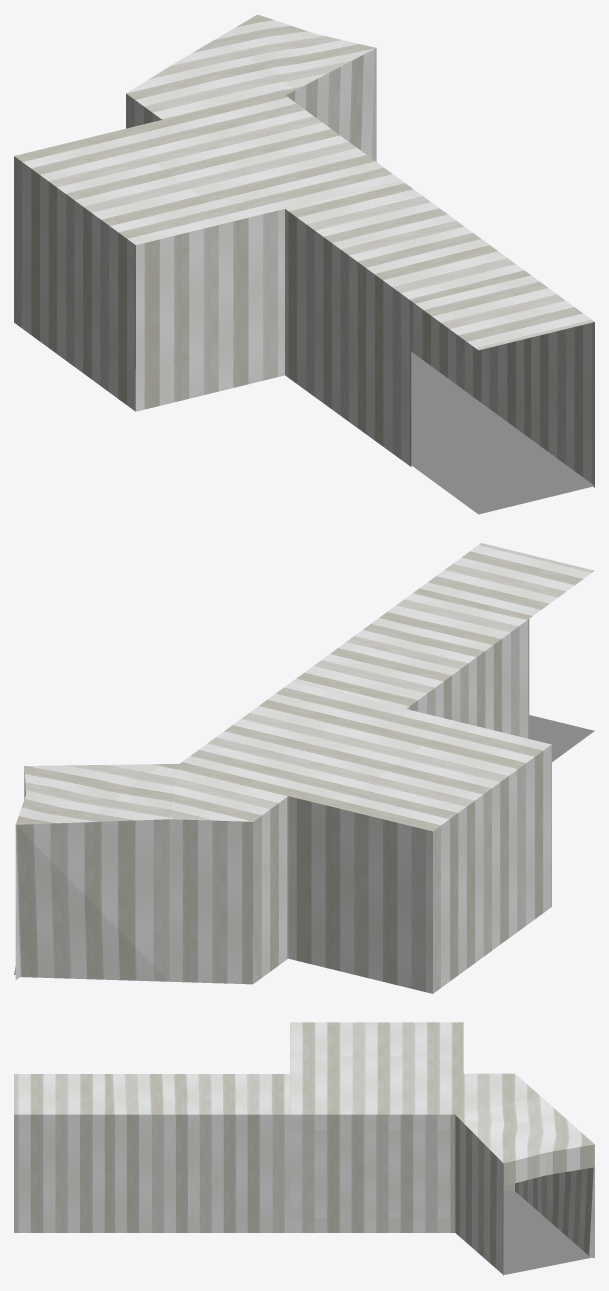
Rendered from PartyroomFloor.fbx.
3 renders of one model, top to bottom at view 1: azimuth 30°, elevation 25°; view 2: azimuth 150°, elevation 25°; view 3: azimuth 270°, elevation 25°, orthographic. The views are drawn at different scales.
Visible parts, largest first — view 1: Wall__7_.002, Wall__7__001.001; view 2: Wall__7_.002, Wall__7__001.001; view 3: Wall__7_.002, Wall__7__001.001.
Part boxes in pixels (left/top/right/bottom): Wall__7_.002: left=14, top=14, right=594, bottom=487; Wall__7__001.001: left=411, top=352, right=594, bottom=514; Wall__7_.002: left=15, top=543, right=594, bottom=993; Wall__7__001.001: left=14, top=715, right=594, bottom=974; Wall__7_.002: left=14, top=1022, right=594, bottom=1275; Wall__7__001.001: left=458, top=1191, right=590, bottom=1274.
Bounding box in the file's own units: 926 × 379 × 1673.
